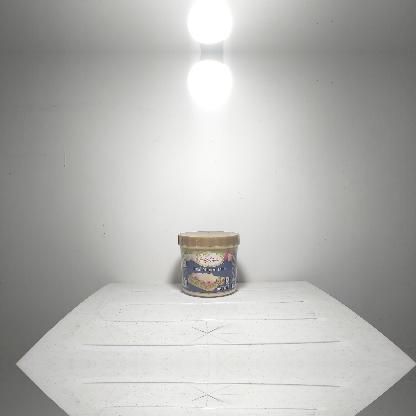Lady-s-Choice: (178, 230, 240, 296)
